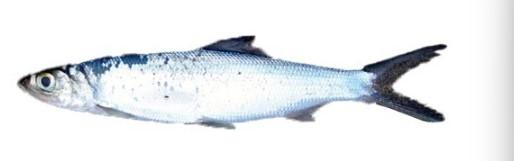Bangus: (17, 35, 450, 134)
